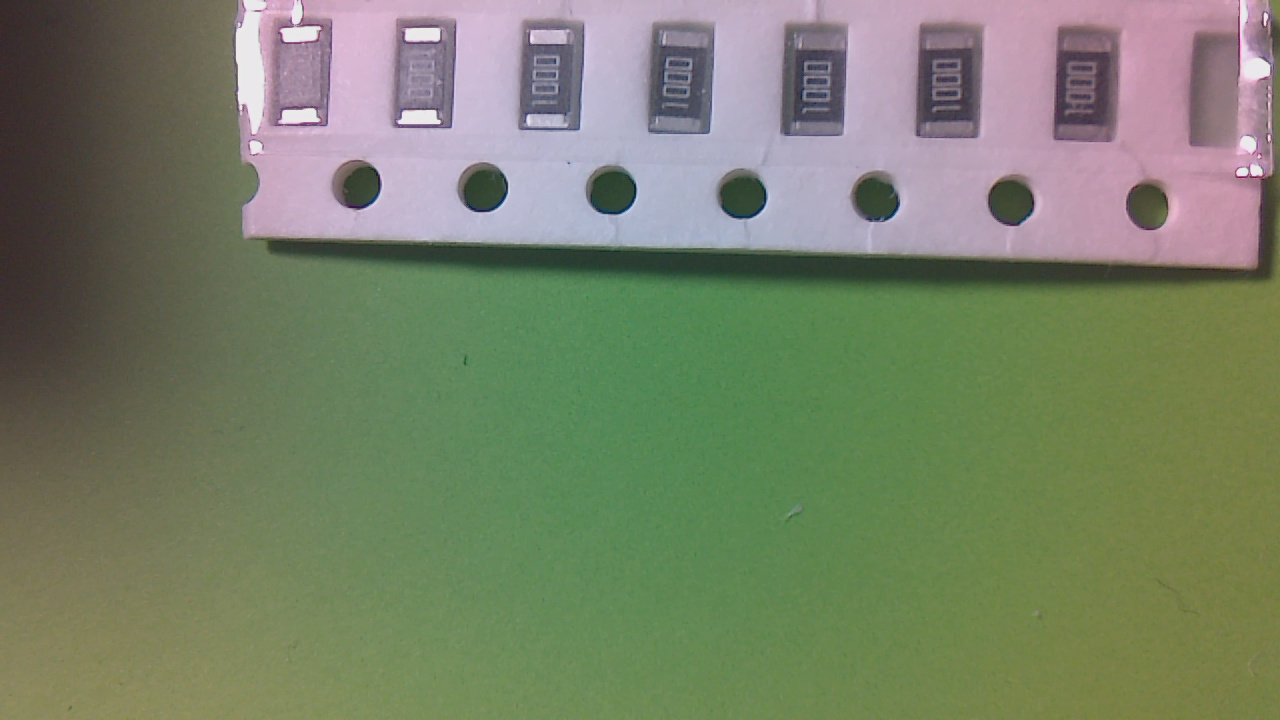Resistor: (1059, 33, 1118, 150), (789, 32, 852, 141), (920, 33, 981, 140), (654, 33, 716, 137), (524, 29, 585, 134), (399, 30, 458, 135), (279, 28, 331, 133)
